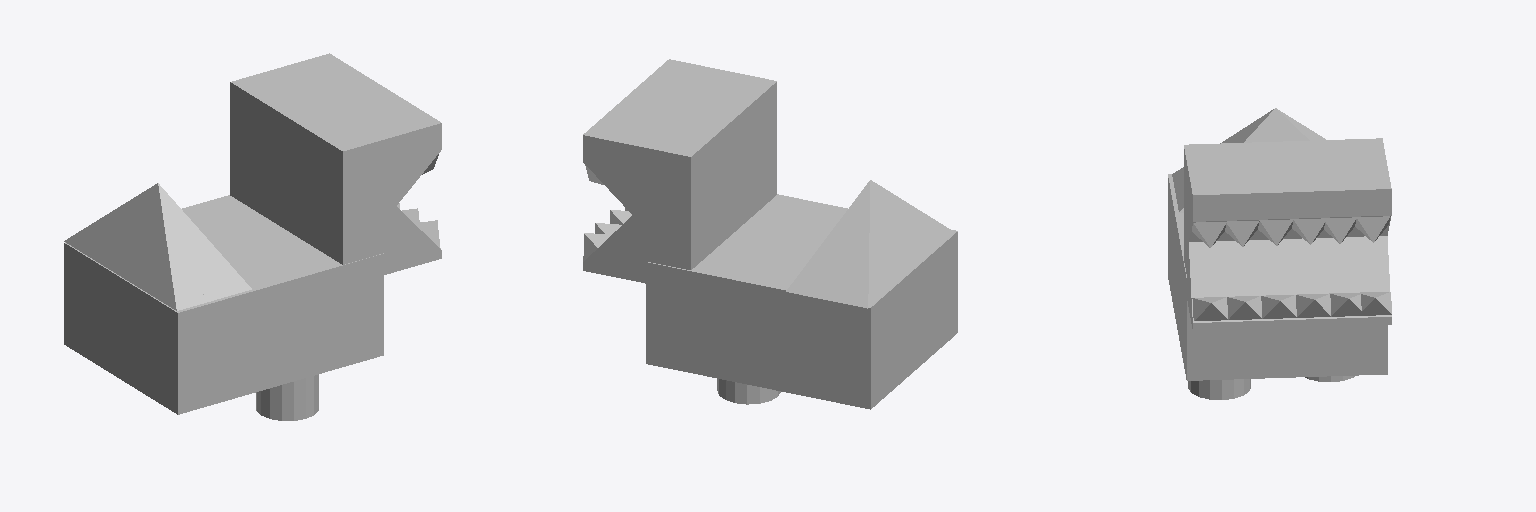
Rendered from dino.obj.
3 views of the same model, side by side, from view 1: azimuth 30°, elevation 25°; view 2: azimuth 150°, elevation 25°; view 3: azimuth 270°, elevation 25° (orthographic).
Visible parts, largest first — view 1: new_model; view 2: new_model; view 3: new_model.
Part boxes in pixels (bbox=[...]): new_model: bbox=[64, 53, 441, 420]; new_model: bbox=[583, 59, 957, 409]; new_model: bbox=[1168, 108, 1391, 399].
Bounding box in the file's own units: 0.8988 × 0.7587 × 0.5927.